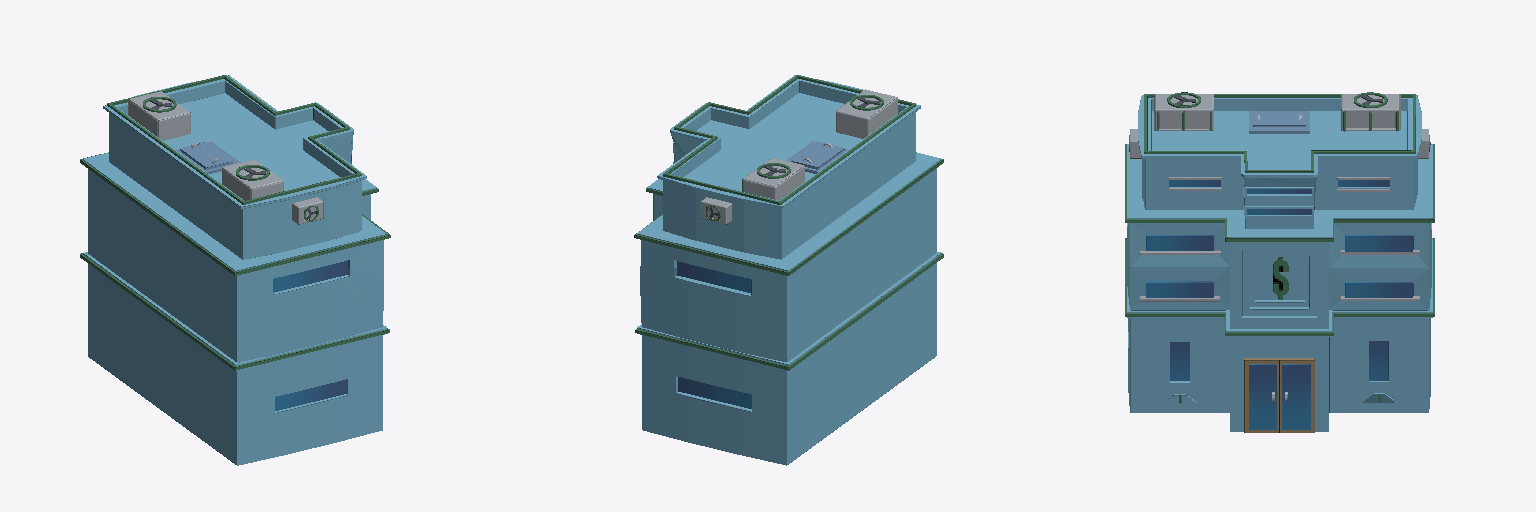
3 views of the same model, side by side, from view 1: azimuth 30°, elevation 25°; view 2: azimuth 150°, elevation 25°; view 3: azimuth 270°, elevation 25° (orthographic).
Visible parts, largest first — view 1: polySurface138; view 2: polySurface138; view 3: polySurface138.
Boxes of the visible parts, x1=… form: polySurface138: x1=80, y1=75, x2=390, y2=465; polySurface138: x1=634, y1=75, x2=943, y2=465; polySurface138: x1=1125, y1=92, x2=1434, y2=432.
Bounding box in the file's own units: 330 × 423 × 450.
Materials: 1 (1 with a texture image).